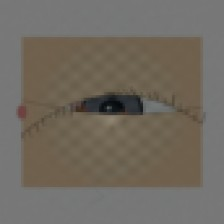foreign_body_visible: (111, 107, 133, 124)
